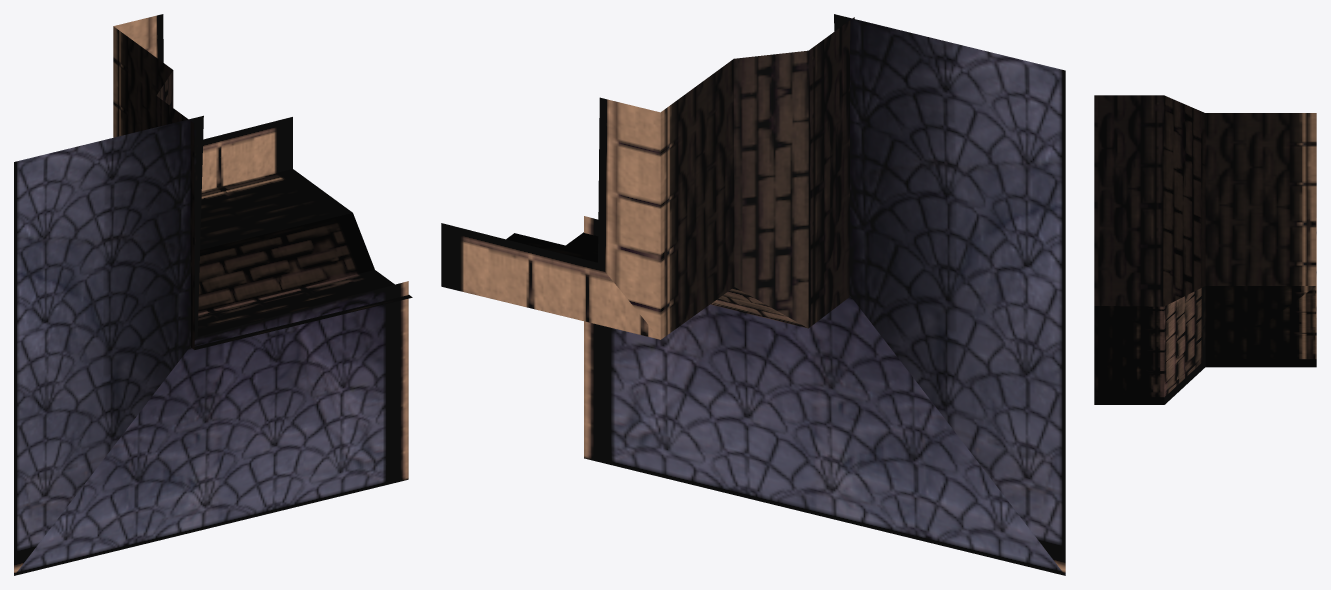
Rendered from ex_OutCorner2obj.obj.
3 views of the same model, side by side, from view 1: azimuth 30°, elevation 25°; view 2: azimuth 150°, elevation 25°; view 3: azimuth 270°, elevation 25° (orthographic). The views are drawn at different scales.
Visible parts, largest first — view 1: object 2, ex_OutCorner2_Plane.069; view 2: ex_OutCorner2_Plane.069, object 2; view 3: ex_OutCorner2_Plane.069, object 2.
Boxes of the visible parts, x1=… form: object 2: x1=14, y1=117, x2=412, y2=575; ex_OutCorner2_Plane.069: x1=14, y1=14, x2=203, y2=575; ex_OutCorner2_Plane.069: x1=598, y1=14, x2=1065, y2=575; object 2: x1=441, y1=216, x2=1065, y2=575; ex_OutCorner2_Plane.069: x1=1094, y1=95, x2=1316, y2=306; object 2: x1=1094, y1=277, x2=1316, y2=404.
Bounding box in the file's own units: 258 × 259 × 136.
